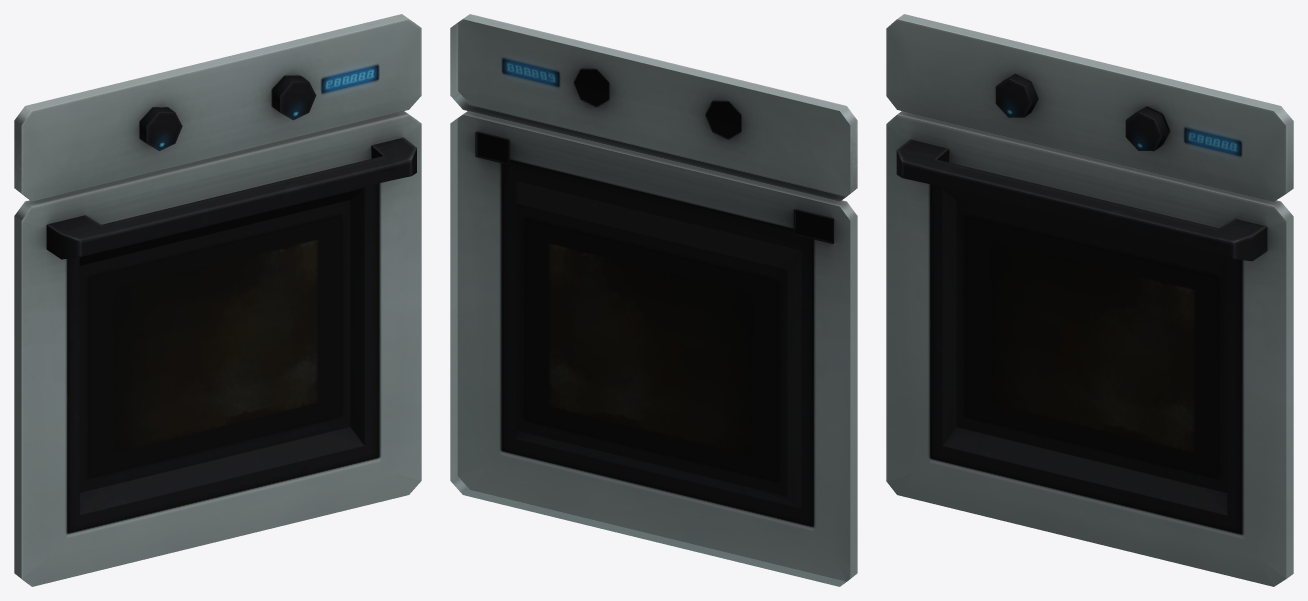
The model's file is Sun_0097_Cooker_oven.fbx.
3 views of the same model, side by side, from view 1: azimuth 30°, elevation 25°; view 2: azimuth 150°, elevation 25°; view 3: azimuth 330°, elevation 25° (orthographic).
Parts seen in each view (by area): view 1: Sun_0097_Cooker_oven; view 2: Sun_0097_Cooker_oven; view 3: Sun_0097_Cooker_oven.
Boxes of the visible parts, left/top/right/bottom form: Sun_0097_Cooker_oven: left=14, top=14, right=421, bottom=586; Sun_0097_Cooker_oven: left=450, top=14, right=857, bottom=586; Sun_0097_Cooker_oven: left=886, top=14, right=1293, bottom=586.
Size of the model in its own units: 46.85 by 53.27 by 5.78.
